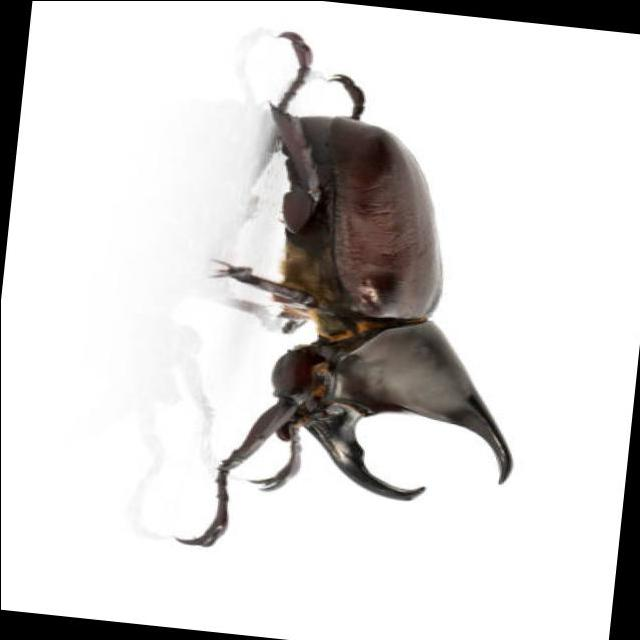Rhino-beetle: (192, 99, 518, 603)
